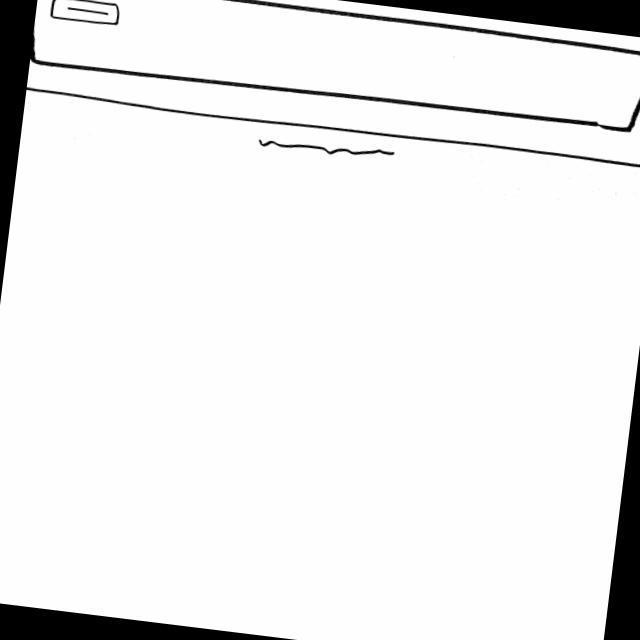container: (30, 1, 640, 140)
icon-button: (47, 1, 126, 29)
text: (255, 134, 399, 165)
